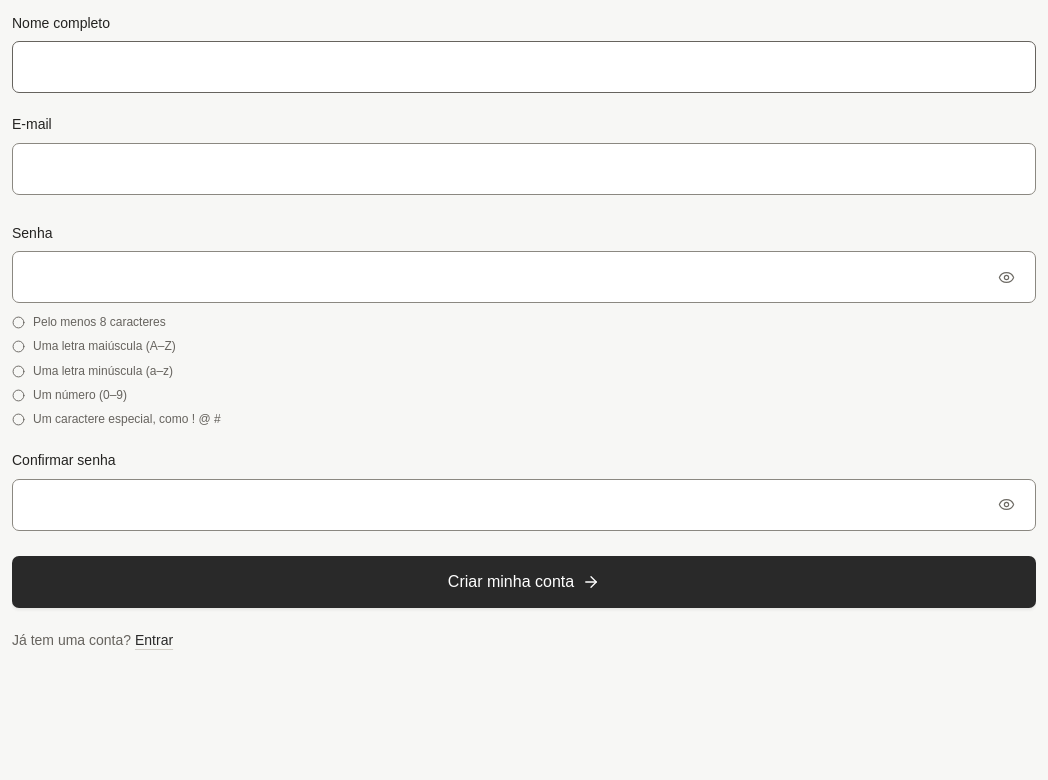
Test: Verificação do e-mail durante o cadastro › permite reenviar confirmação pendente preservando o convite e sem recriar a conta
Type "pending@example.test" into the field labelled "E-mail" at (524, 169), box [12,143,1036,195]
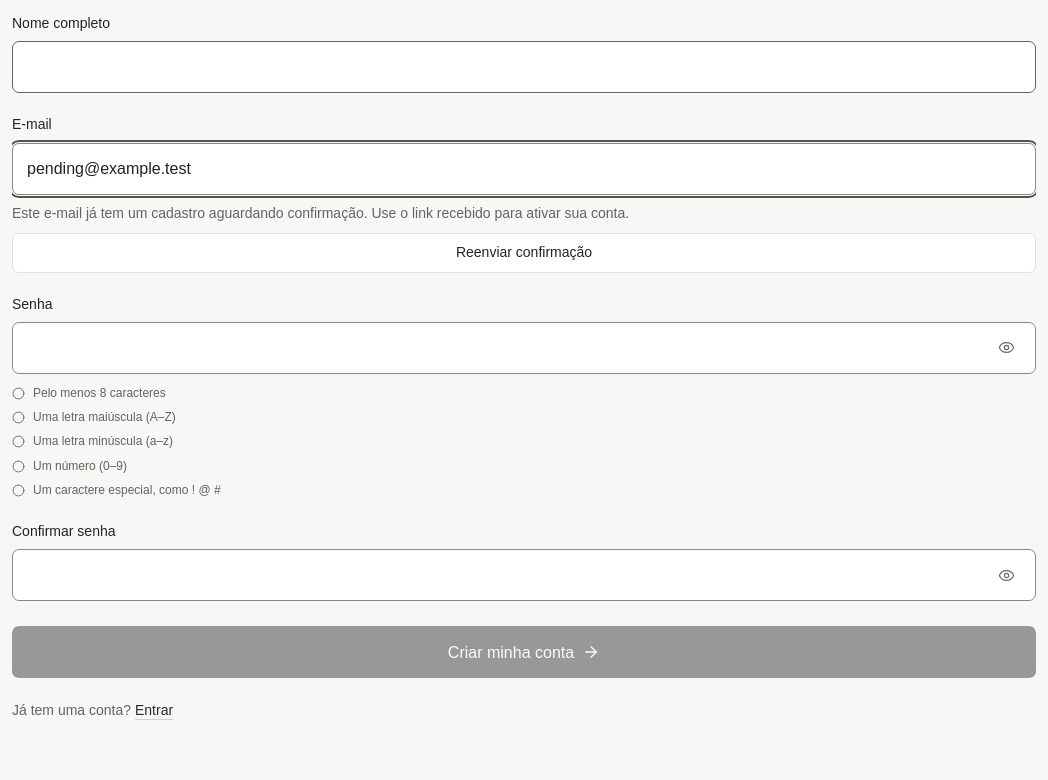
Click the button "Reenviar confirmação" at (524, 253), box [12,233,1036,273]
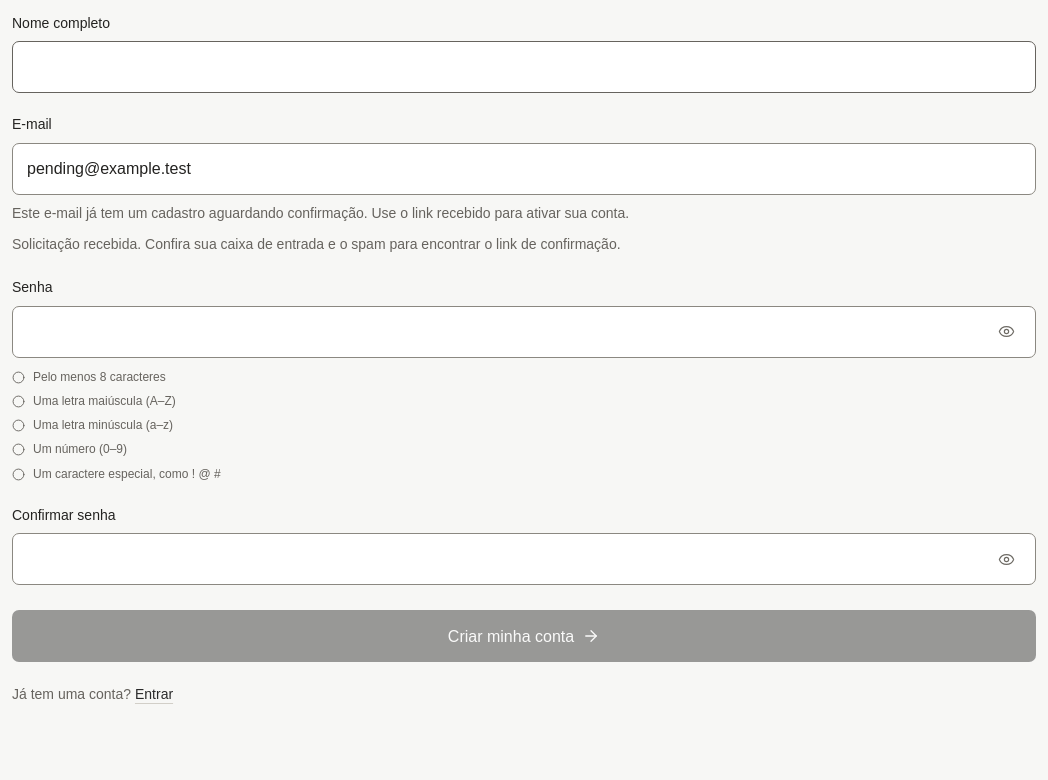
Result: the button "Criar minha conta" is disabled at [12,610,1036,662]
Result: the message shows "Solicitação recebida" at [12,236,621,252]
